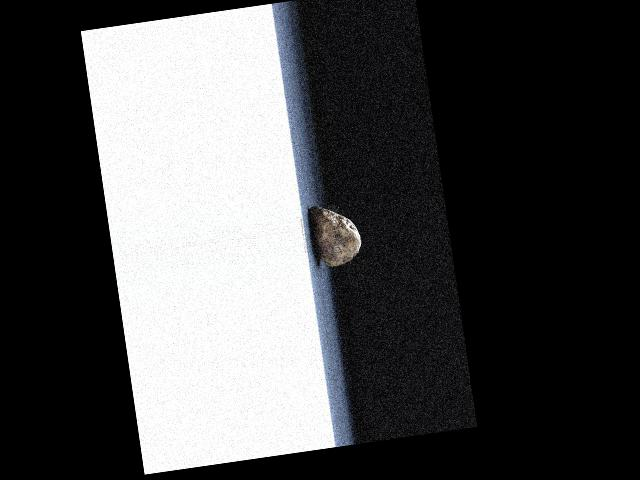beet: (308, 201, 363, 270)
